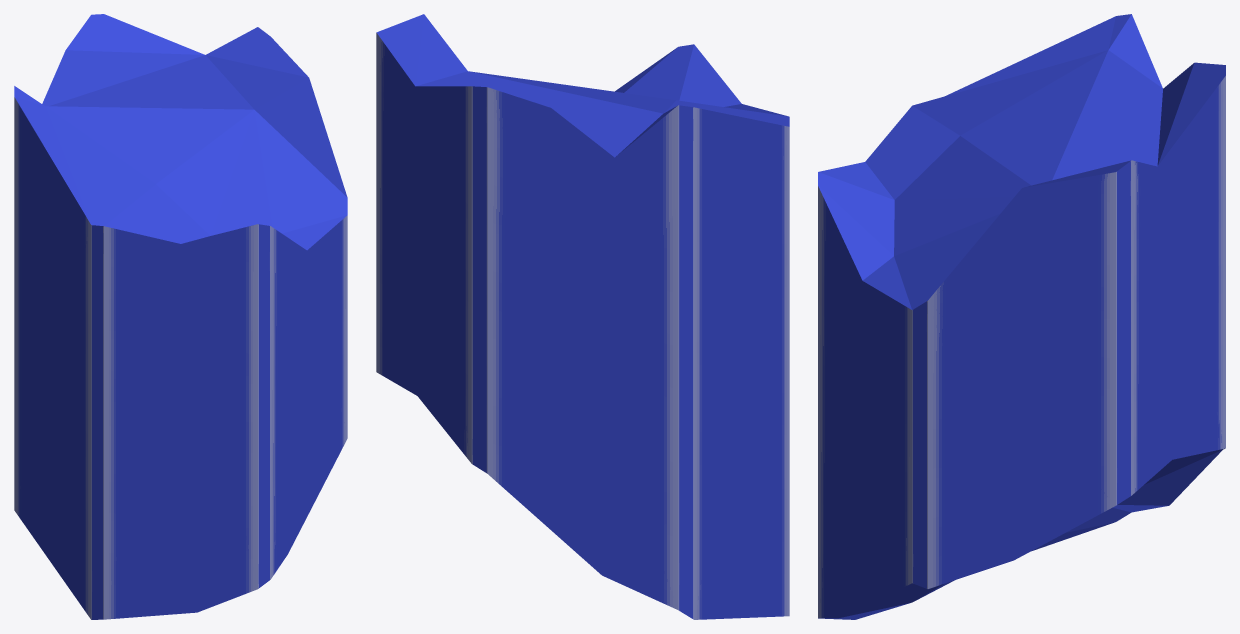
Rendered from brokenCrystalMiddle.fbx.
3 views of the same model, side by side, from view 1: azimuth 30°, elevation 25°; view 2: azimuth 150°, elevation 25°; view 3: azimuth 270°, elevation 25° (orthographic). The views are drawn at different scales.
Parts seen in each view (by area): view 1: Cube; view 2: Cube; view 3: Cube.
Part boxes in pixels (bbox=[...]): Cube: bbox=[14, 14, 347, 619]; Cube: bbox=[376, 14, 789, 619]; Cube: bbox=[818, 14, 1225, 619].
Size of the model in its own units: 1.73 by 3.14 by 1.95.
